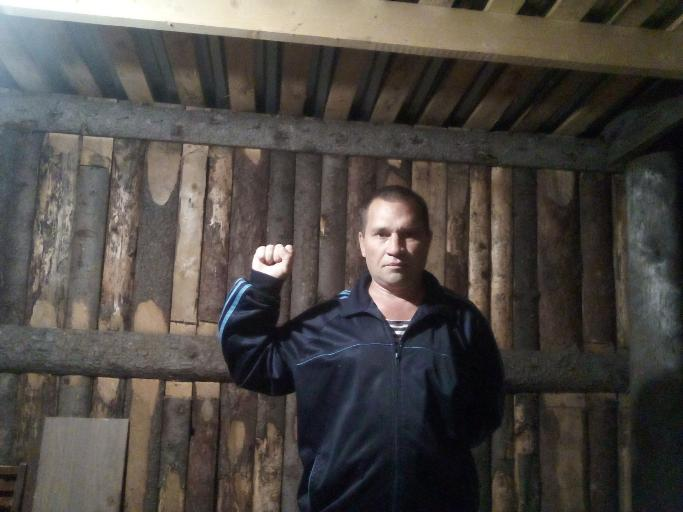fist: (249, 241, 296, 286)
